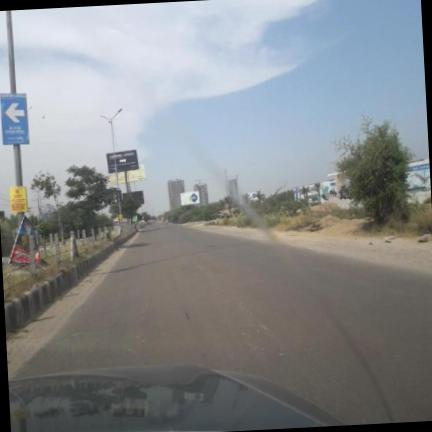Road: (18, 225, 431, 423)
